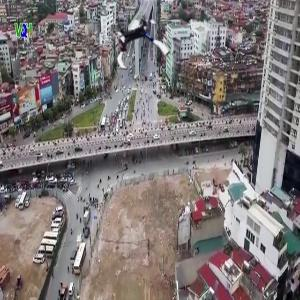drone: (109, 16, 169, 76)
